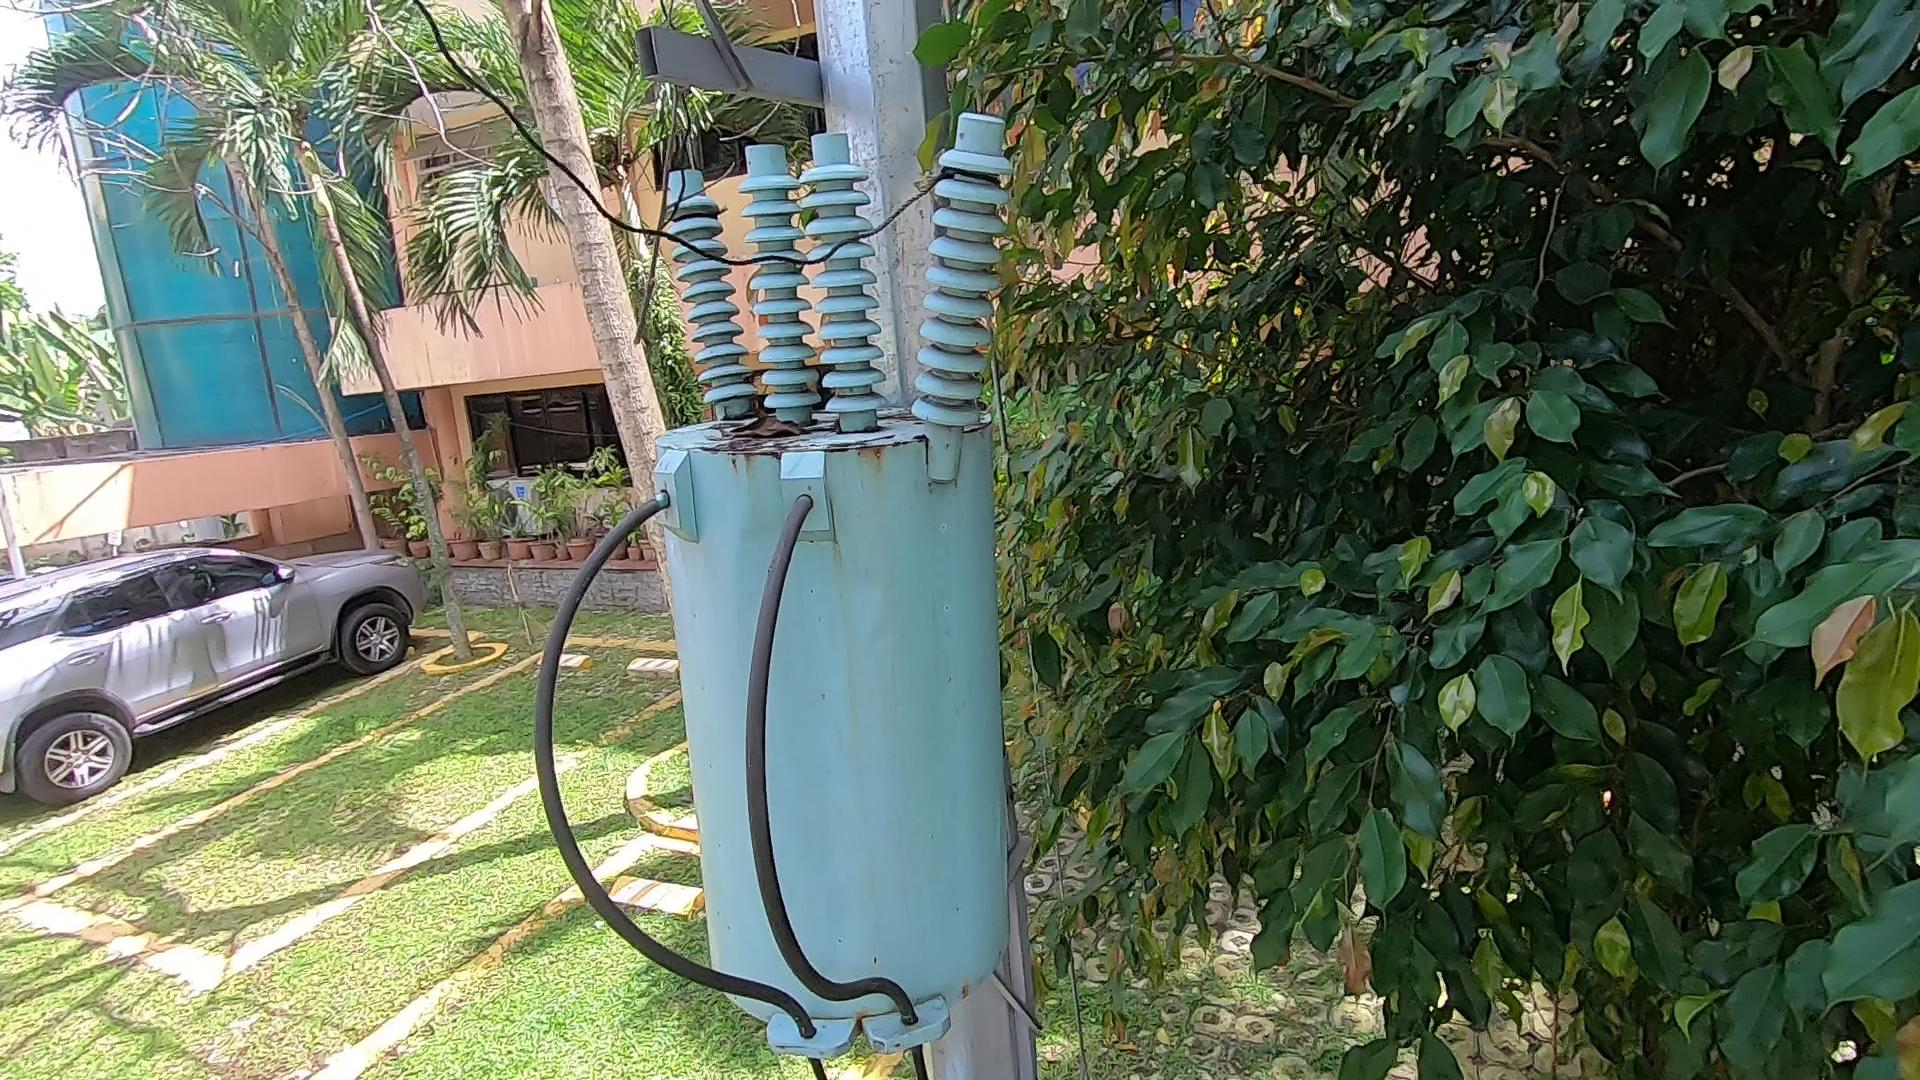leaf: (731, 394, 814, 455)
tree branch: (599, 15, 742, 368)
